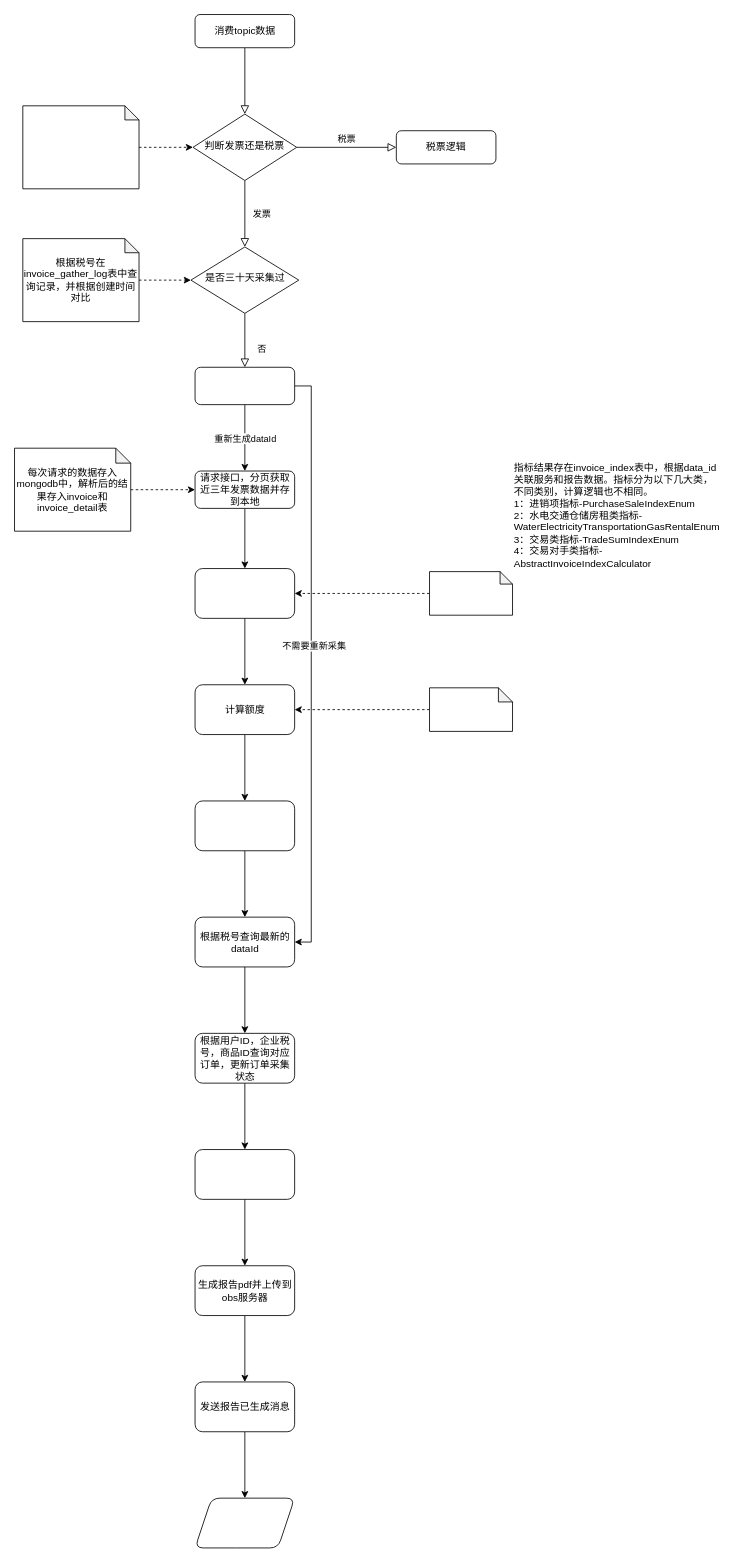
This 735x1563 diagram has some shape labels left out. Each missing label, with the centre of its shape:
"将dataId存储采集日志到invoice_gather_log" belongs at pixel 244 825.
"查询报告invoice_report_record，并修改报告状态" belongs at pixel 244 1174.
"根据发票额度计算你文档计算" belongs at pixel 471 709.
"根据回到参数中ExtraInfo字段中dataType，tax为税务，invoice为发票；如果当前授权的是发票的，那么就不处理财税的回调" belongs at pixel 80 147.
"结束" belongs at pixel 244 1522.
"计算指标" belongs at pixel 244 593.
"重新采集" belongs at pixel 244 385.
